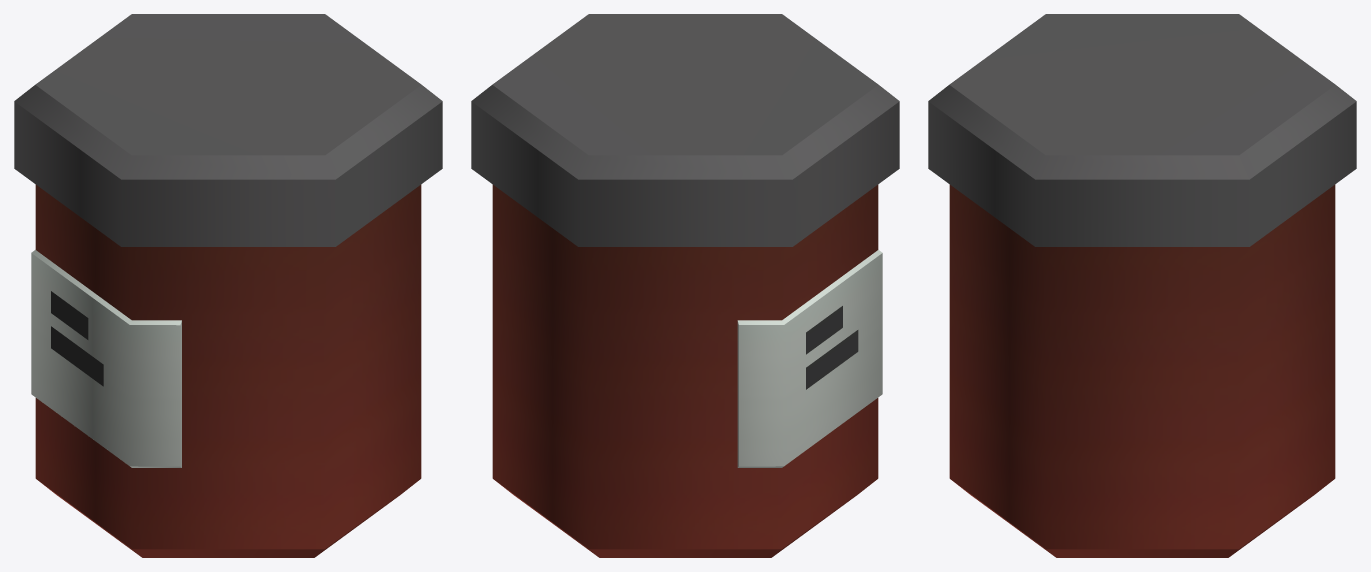
Rendered from Jar_1_L.glb.
The picture shows the model from 3 angles, left to right: view 1: azimuth 30°, elevation 25°; view 2: azimuth 150°, elevation 25°; view 3: azimuth 270°, elevation 25°; orthographic projection.
Visible parts, largest first — view 1: Jar_1_L; view 2: Jar_1_L; view 3: Jar_1_L.
Part boxes in pixels (left/top/right/bottom): Jar_1_L: left=14, top=14, right=442, bottom=557; Jar_1_L: left=471, top=14, right=899, bottom=557; Jar_1_L: left=928, top=14, right=1356, bottom=557.
Size of the model in its own units: 0.1799 by 0.2194 by 0.2077.
Materials: 1 (1 with a texture image).
